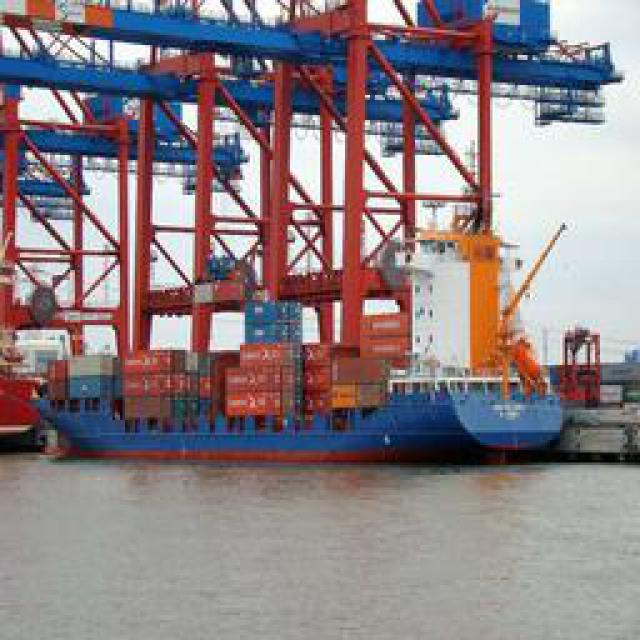Ship: (60, 384, 563, 467)
